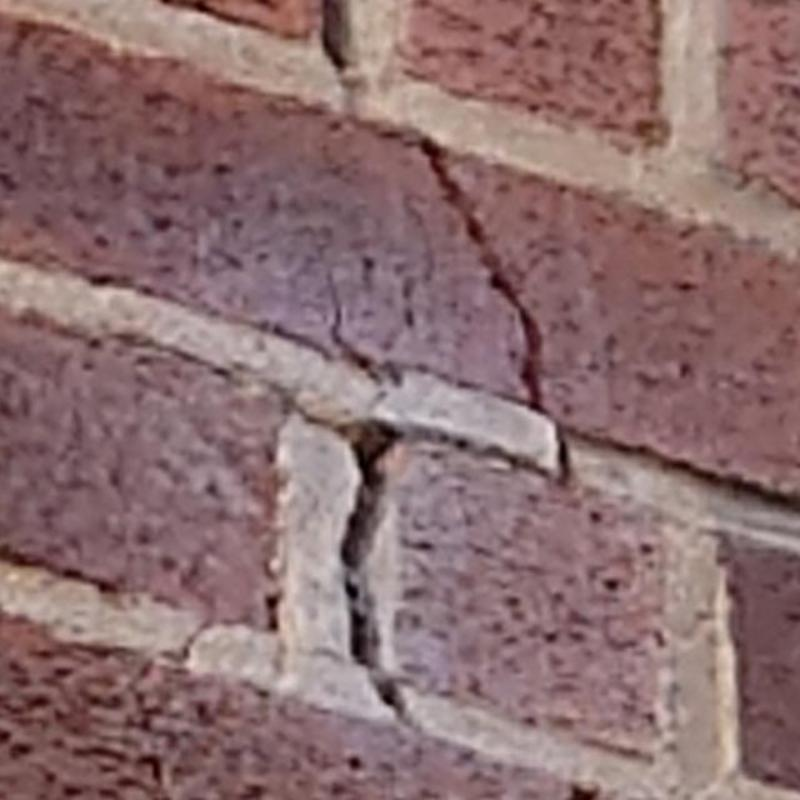pothole: (287, 395, 400, 712), (422, 139, 545, 412), (160, 621, 211, 661), (323, 0, 352, 70), (555, 423, 570, 482)
